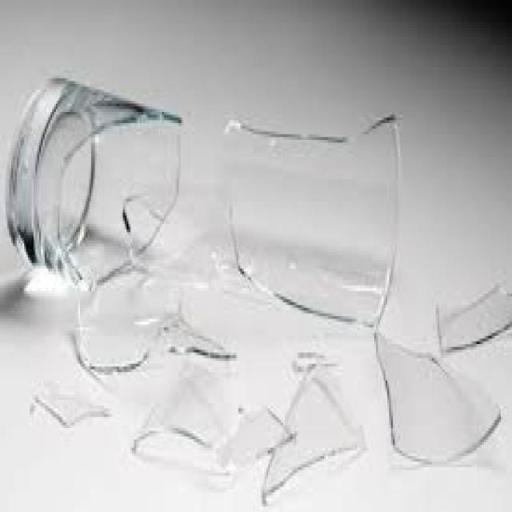glass: (216, 98, 410, 368), (0, 71, 194, 320), (376, 334, 500, 464), (262, 364, 366, 505), (131, 361, 246, 480), (435, 279, 512, 353)
